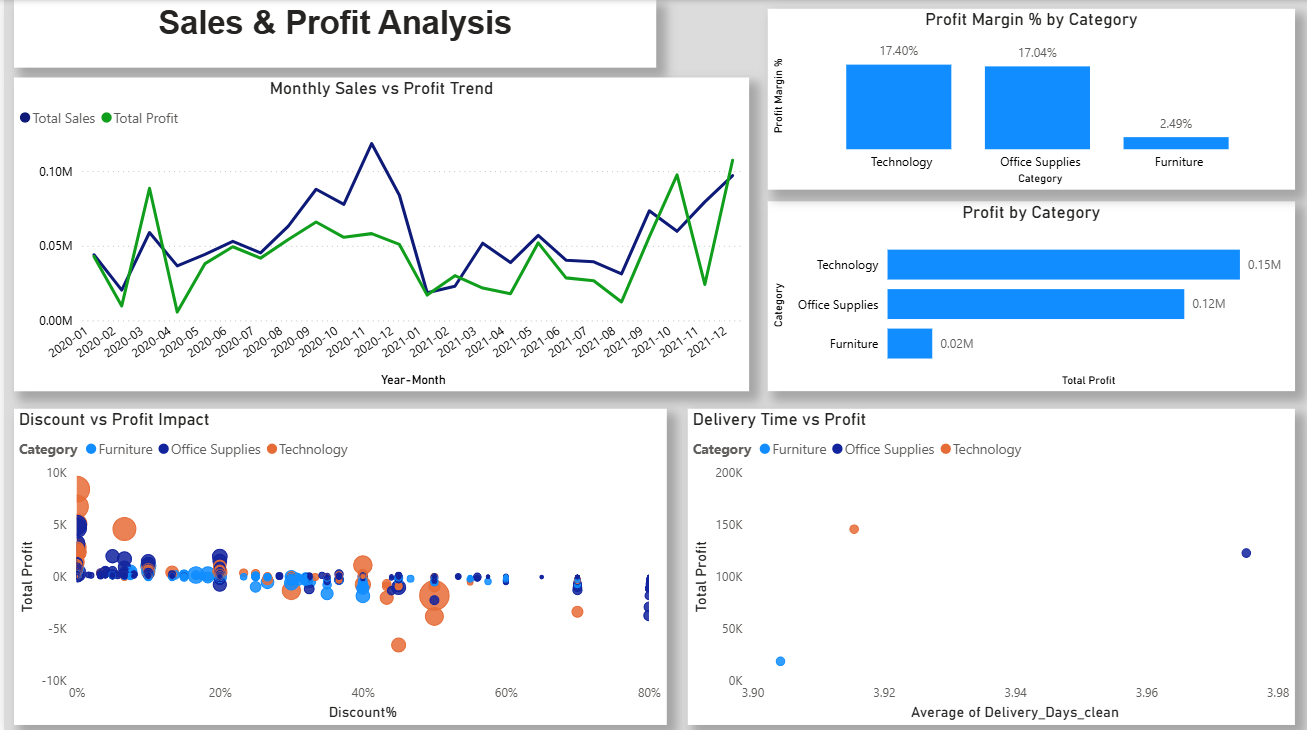

This screenshot's page, from the dashboard's own definition file:
{"tool":"powerbi","page":{"name":"Sales Performance Analysis","canvas":[1280,720],"ordinal":1},"visuals":[{"type":"textbox","box":[9.8,0,630.7,66.3],"z":0},{"type":"lineChart","title":"Monthly Sales vs Profit Trend","fields":{"Category":["Date_Table.Year-Month"],"Y":["Orders1.Total Sales"],"Y2":["Orders1.Total Profit"]},"box":[9.8,76.1,721.5,308],"z":1000},{"type":"clusteredBarChart","title":"Profit by Category","fields":{"Y":["Orders1.Total Profit"],"Category":["Orders1.Category"]},"box":[749.7,197.5,517.8,186.5],"z":2000},{"type":"clusteredColumnChart","title":"Profit Margin % by Category","fields":{"Category":["Orders1.Category"],"Y":["Orders1.Profit Margin %"]},"box":[749.7,8.6,517.8,177.9],"z":3000},{"type":"scatterChart","title":"Discount vs Profit Impact","fields":{"X":["Avg(Orders1.Discount)"],"Y":["Orders1.Total Profit"],"Series":["Orders1.Category"],"Category":["Orders1.Order ID"],"Size":["Orders1.Total Sales"]},"box":[9.8,401.2,640.5,310.4],"z":4000},{"type":"scatterChart","title":"Delivery Time vs Profit","fields":{"Series":["Orders1.Category"],"X":["Avg(Orders1.Delivery_Days_clean)"],"Y":["Orders1.Total Profit"]},"box":[671.2,401.2,596.3,310.4],"z":5000}]}

Visuals, with their boxes in screenshot pixels (x1, y1, x2, y2), scaled from the page's 1280x720 canvas onto the 1307x730 screenshot:
textbox: (10, 0, 654, 67)
"Monthly Sales vs Profit Trend" lineChart: (10, 77, 747, 389)
"Profit by Category" clusteredBarChart: (766, 200, 1294, 389)
"Profit Margin % by Category" clusteredColumnChart: (766, 9, 1294, 189)
"Discount vs Profit Impact" scatterChart: (10, 407, 664, 721)
"Delivery Time vs Profit" scatterChart: (685, 407, 1294, 721)
